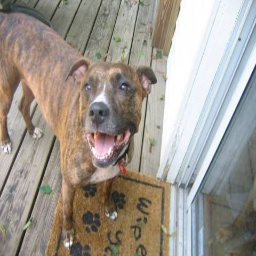dog: (0, 13, 151, 249)
